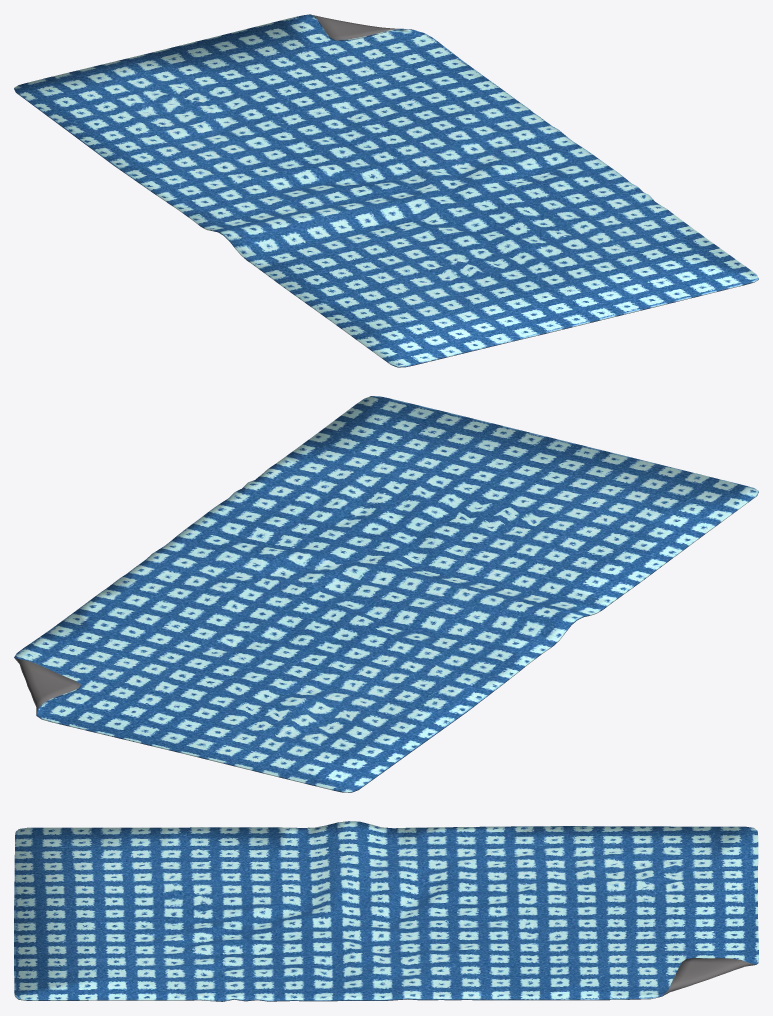
Rendered from rug_-_square_pattern.glb.
The picture shows the model from 3 angles, top to bottom: view 1: azimuth 30°, elevation 25°; view 2: azimuth 150°, elevation 25°; view 3: azimuth 270°, elevation 25°; orthographic projection. The views are drawn at different scales.
Visible parts, largest first — view 1: SM_rug_2.003_T_rug_2_squares.001_0; view 2: SM_rug_2.003_T_rug_2_squares.001_0; view 3: SM_rug_2.003_T_rug_2_squares.001_0.
Boxes of the visible parts, x1,y1,x2,y2 form: SM_rug_2.003_T_rug_2_squares.001_0: (14,14,758,367); SM_rug_2.003_T_rug_2_squares.001_0: (14,396,758,792); SM_rug_2.003_T_rug_2_squares.001_0: (14,821,758,1001).
Size of the model in its own units: 3.78 by 0.1095 by 6.83.
Materials: 1 (1 with a texture image).
